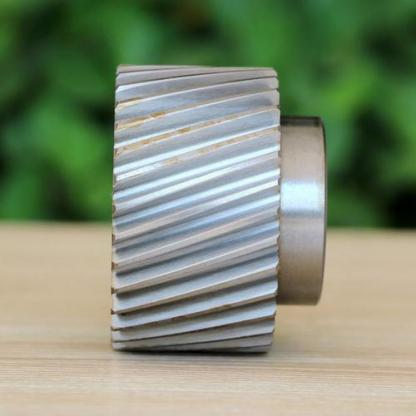FOD: (107, 59, 283, 358)
